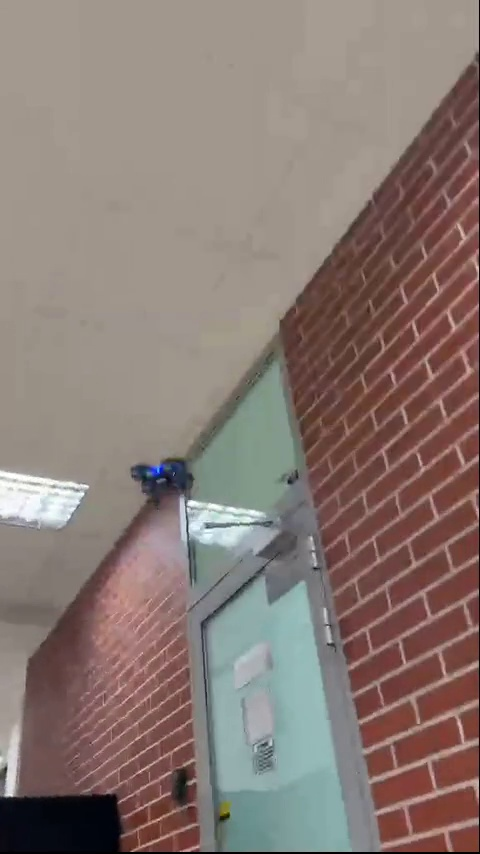drone: (137, 461, 200, 500)
